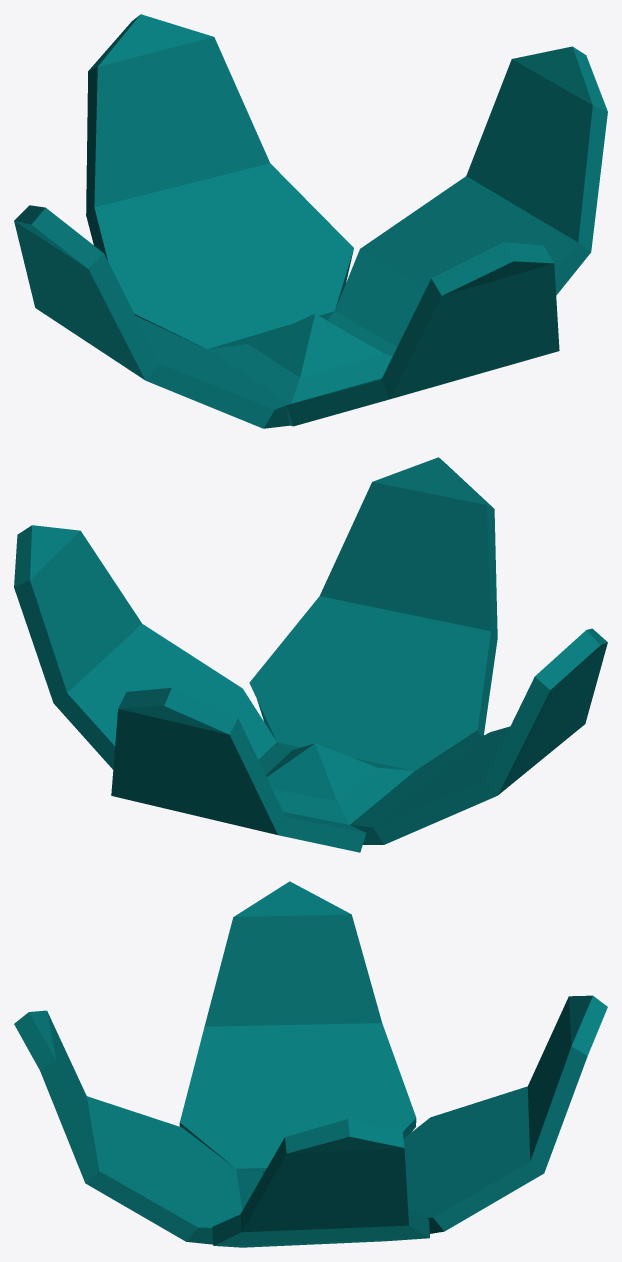
File: Flowers_Crop.glb
The picture shows the model from 3 angles, top to bottom: view 1: azimuth 30°, elevation 25°; view 2: azimuth 150°, elevation 25°; view 3: azimuth 270°, elevation 25°; orthographic projection. The views are drawn at different scales.
Visible parts, largest first — view 1: Flowers_Crop_Plane.009; view 2: Flowers_Crop_Plane.009; view 3: Flowers_Crop_Plane.009.
Part boxes in pixels (<box>): Flowers_Crop_Plane.009: <box>14,14,607,428</box>; Flowers_Crop_Plane.009: <box>14,457,607,852</box>; Flowers_Crop_Plane.009: <box>14,881,607,1247</box>.
Size of the model in its own units: 0.2918 by 0.1162 by 0.2926.
